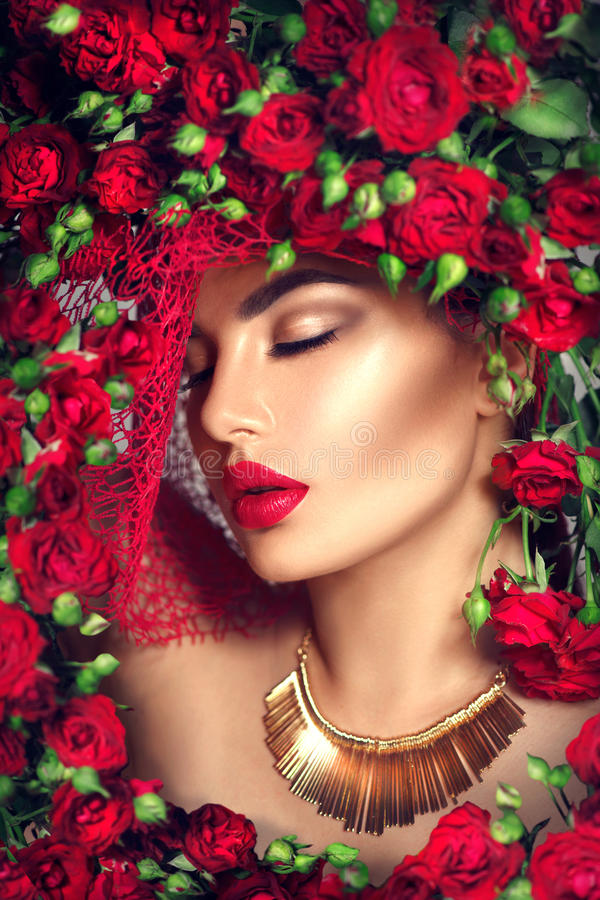RedRose: (344, 21, 460, 154), (482, 579, 600, 701), (383, 160, 499, 257), (5, 504, 112, 605), (490, 421, 587, 521), (420, 798, 514, 900), (37, 349, 115, 461), (502, 265, 600, 352), (0, 847, 151, 900), (70, 9, 156, 102), (0, 599, 62, 725), (283, 0, 377, 83), (527, 796, 600, 900), (0, 116, 73, 217), (88, 141, 172, 226), (246, 89, 330, 172), (137, 0, 240, 66), (276, 170, 348, 260), (451, 45, 539, 117), (46, 689, 130, 763), (190, 50, 265, 129), (539, 157, 600, 254), (220, 856, 354, 900), (0, 287, 68, 360), (457, 214, 538, 274), (186, 798, 255, 868), (41, 787, 125, 844), (493, 0, 577, 54), (0, 0, 70, 56), (562, 713, 600, 787)
